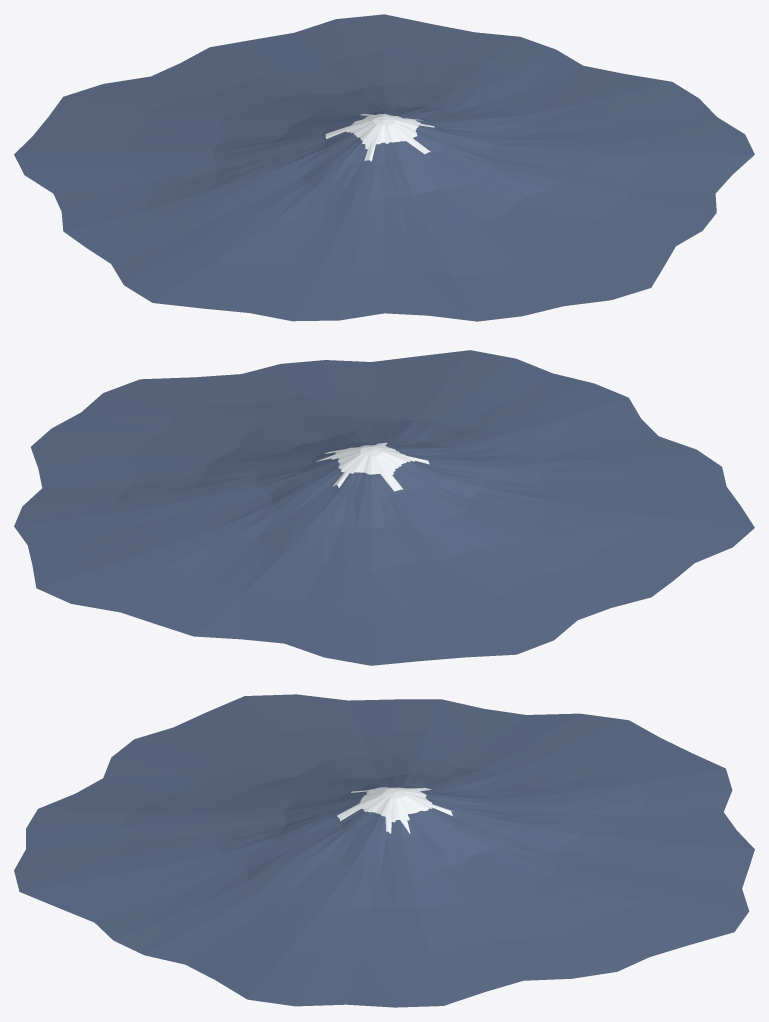
File: city6.glb
3 views of the same model, one above another, from view 1: azimuth 30°, elevation 25°; view 2: azimuth 150°, elevation 25°; view 3: azimuth 270°, elevation 25° (orthographic). The views are drawn at different scales.
Parts seen in each view (by area): view 1: C6_Fuji, C6_FujiSnow; view 2: C6_Fuji, C6_FujiSnow; view 3: C6_Fuji, C6_FujiSnow.
Part boxes in pixels (left/top/right/bottom): C6_Fuji: left=14, top=14, right=754, bottom=321; C6_FujiSnow: left=325, top=113, right=434, bottom=161; C6_Fuji: left=14, top=350, right=754, bottom=665; C6_FujiSnow: left=316, top=442, right=429, bottom=491; C6_Fuji: left=14, top=694, right=754, bottom=1007; C6_FujiSnow: left=337, top=787, right=452, bottom=833.
Size of the model in its own units: 44725 by 3791 by 44720.
